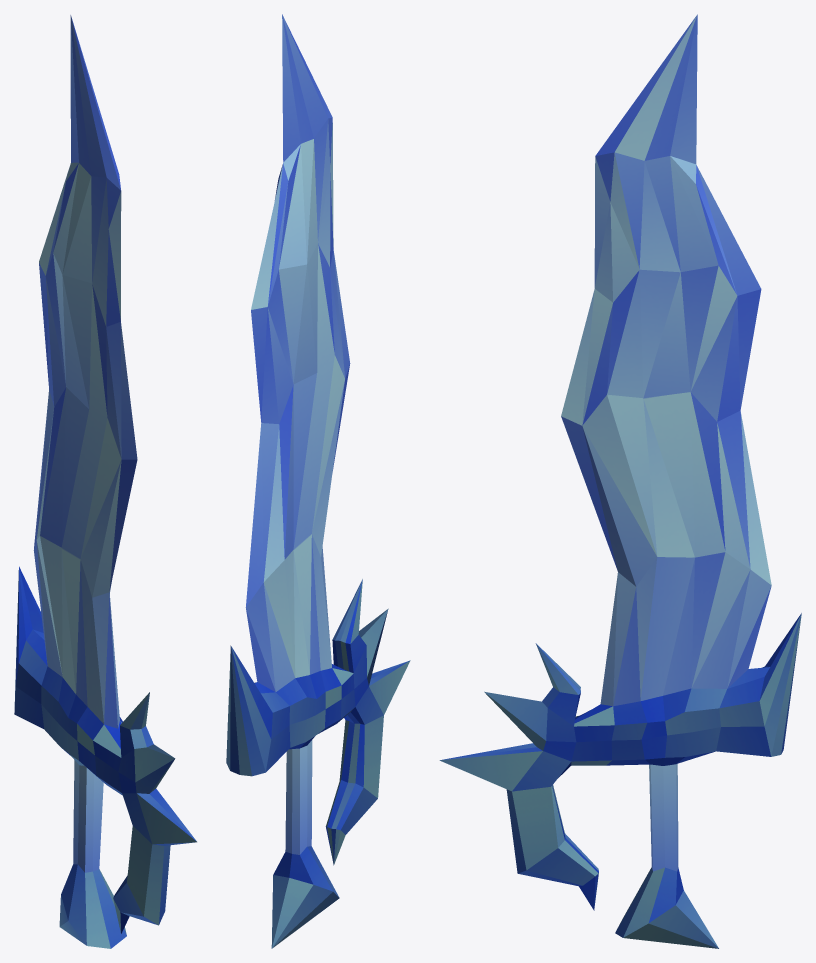
File: ice_sword.fbx
The picture shows the model from 3 angles, left to right: view 1: azimuth 30°, elevation 25°; view 2: azimuth 150°, elevation 25°; view 3: azimuth 270°, elevation 25°; orthographic projection.
Visible parts, largest first — view 1: ice_sword; view 2: ice_sword; view 3: ice_sword.
Boxes of the visible parts, x1,y1,x2,y2 form: ice_sword: (14, 15, 196, 948); ice_sword: (226, 14, 410, 948); ice_sword: (439, 14, 801, 948).
Size of the model in its own units: 0.2024 by 3.4 by 1.2.
Materials: 2 (2 with a texture image).
